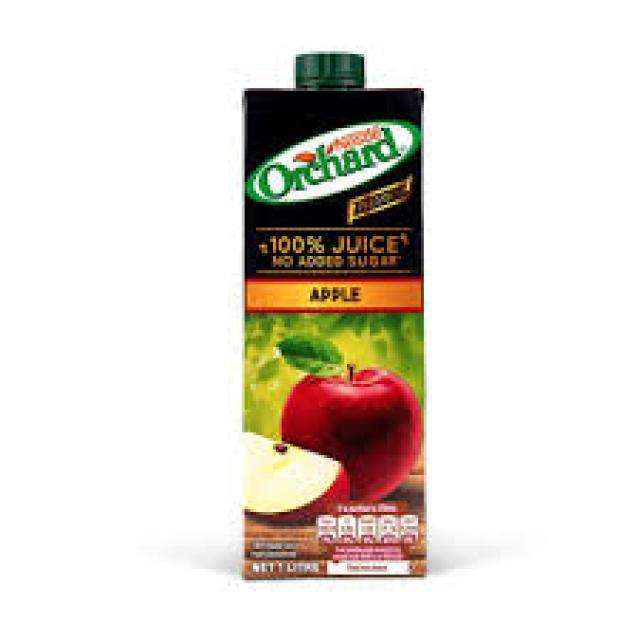non_white_jug: (223, 33, 434, 553)
